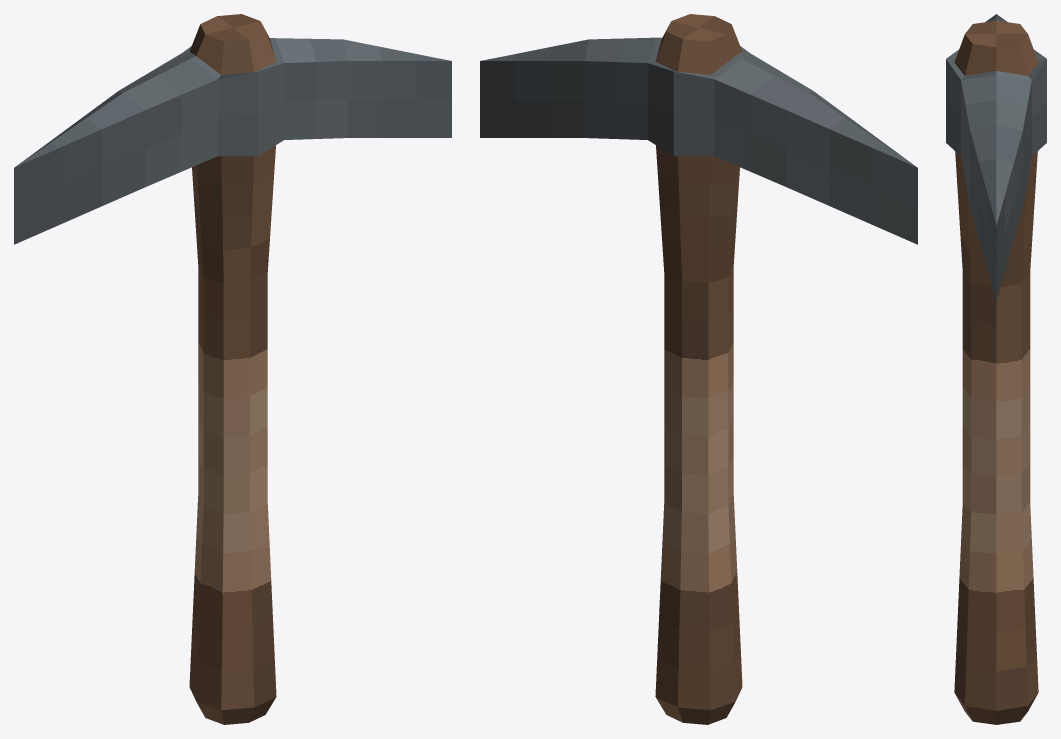
File: pickaxe.glb
3 views of the same model, side by side, from view 1: azimuth 30°, elevation 25°; view 2: azimuth 150°, elevation 25°; view 3: azimuth 270°, elevation 25° (orthographic).
Visible parts, largest first — view 1: cube; view 2: cube; view 3: cube.
Boxes of the visible parts, left/top/right/bottom form: cube: left=14, top=14, right=451, bottom=724; cube: left=480, top=14, right=917, bottom=724; cube: left=946, top=14, right=1046, bottom=724.
Bounding box in the file's own units: 0.7436 × 1.11 × 0.1498.
1 material, 1 textured.
